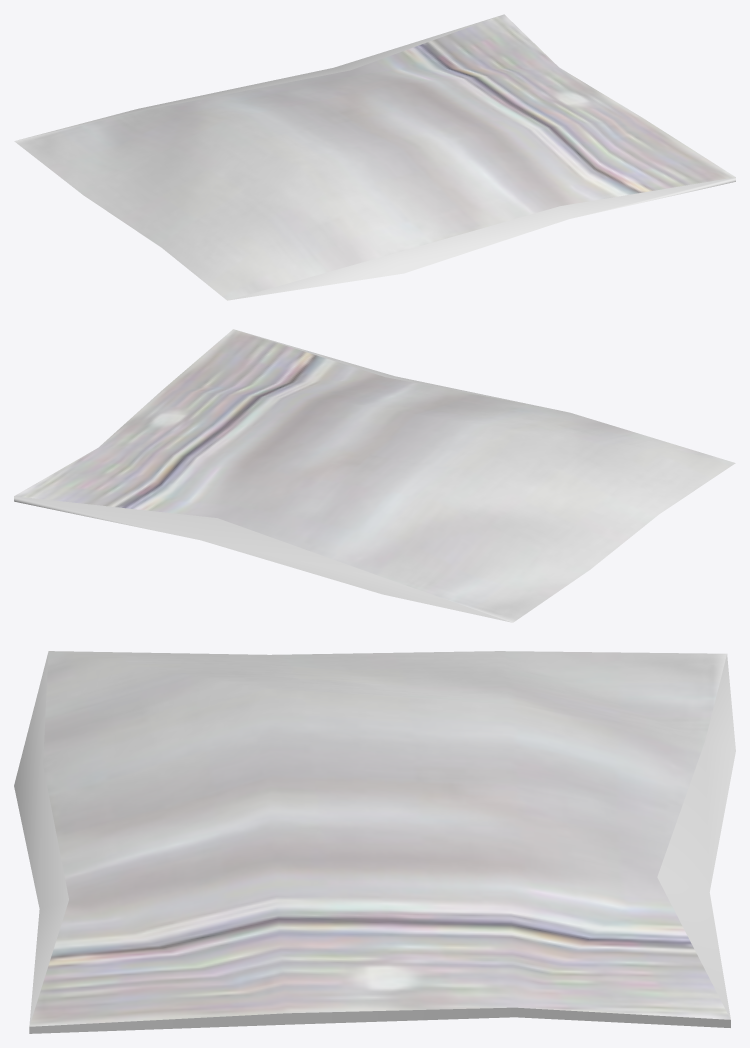
File: powderPacketGreen.fbx
3 renders of one model, top to bottom at view 1: azimuth 30°, elevation 25°; view 2: azimuth 150°, elevation 25°; view 3: azimuth 270°, elevation 25°, orthographic. The views are drawn at different scales.
Parts seen in each view (by area): view 1: powderPacketGreen; view 2: powderPacketGreen; view 3: powderPacketGreen.
Part boxes in pixels (bbox=[...]): powderPacketGreen: bbox=[14, 14, 735, 300]; powderPacketGreen: bbox=[14, 329, 735, 622]; powderPacketGreen: bbox=[14, 651, 735, 1033].
Size of the model in its own units: 0.1877 by 0.0187 by 0.1491.
Materials: 1 (1 with a texture image).
